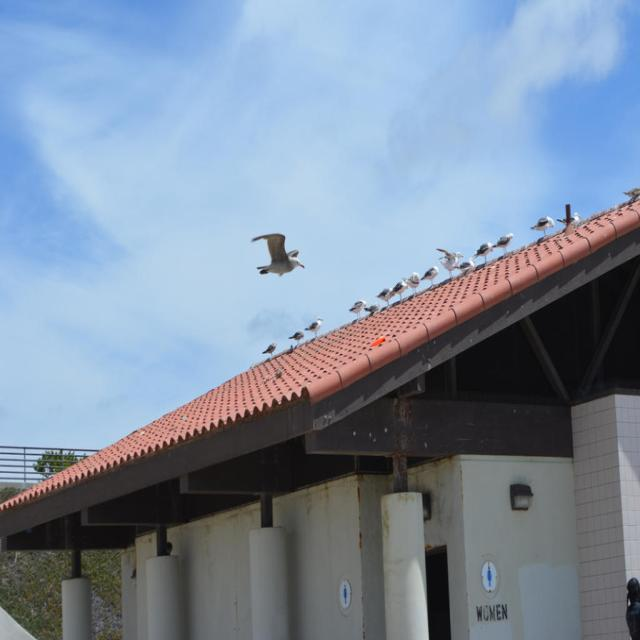bird: (250, 232, 306, 278), (435, 248, 465, 280), (529, 214, 556, 240), (556, 206, 582, 230), (348, 299, 368, 323), (304, 316, 324, 339), (494, 232, 514, 252), (458, 255, 477, 276), (422, 265, 439, 288), (476, 240, 494, 260), (390, 279, 407, 299), (407, 271, 421, 293), (375, 286, 392, 304), (368, 335, 387, 351), (364, 302, 381, 318), (288, 329, 305, 344), (262, 341, 278, 356)
